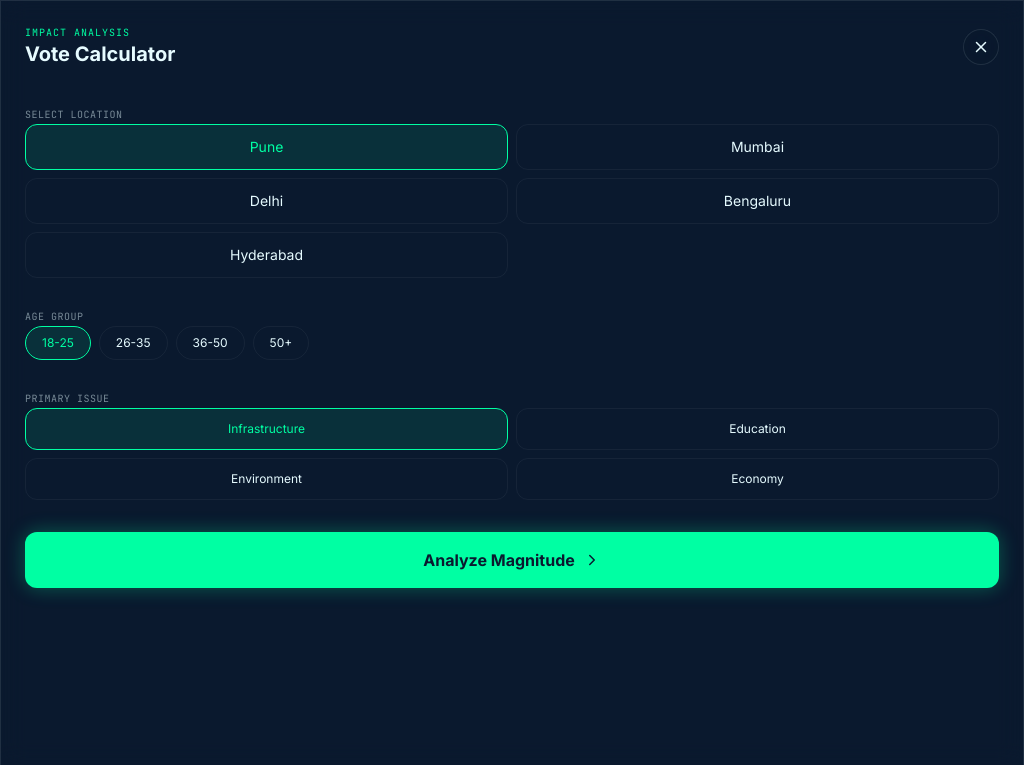
VoteImpactCalculator Component › navigates to step 2 after selection
The width and height of the screenshot is (1024, 765).
// Select a city
Click the button "Delhi" at (266, 201), box [25,178,508,224]
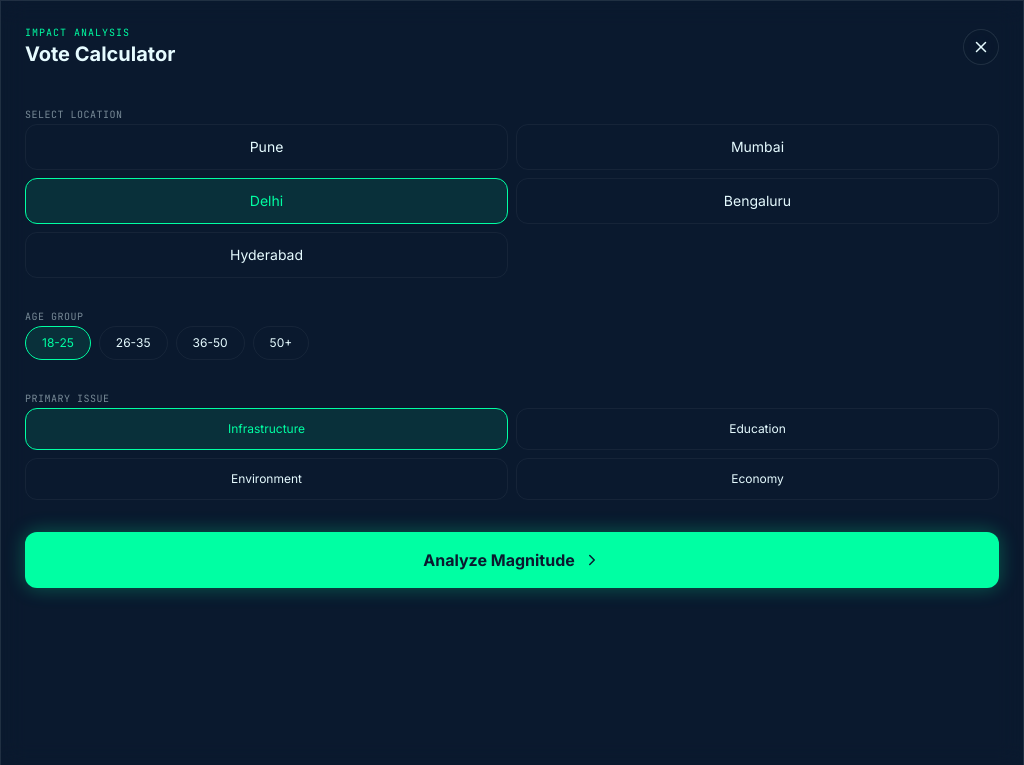
// Click Analyze button
Click the button "Analyze Magnitude" at (512, 560), box [25,532,999,588]
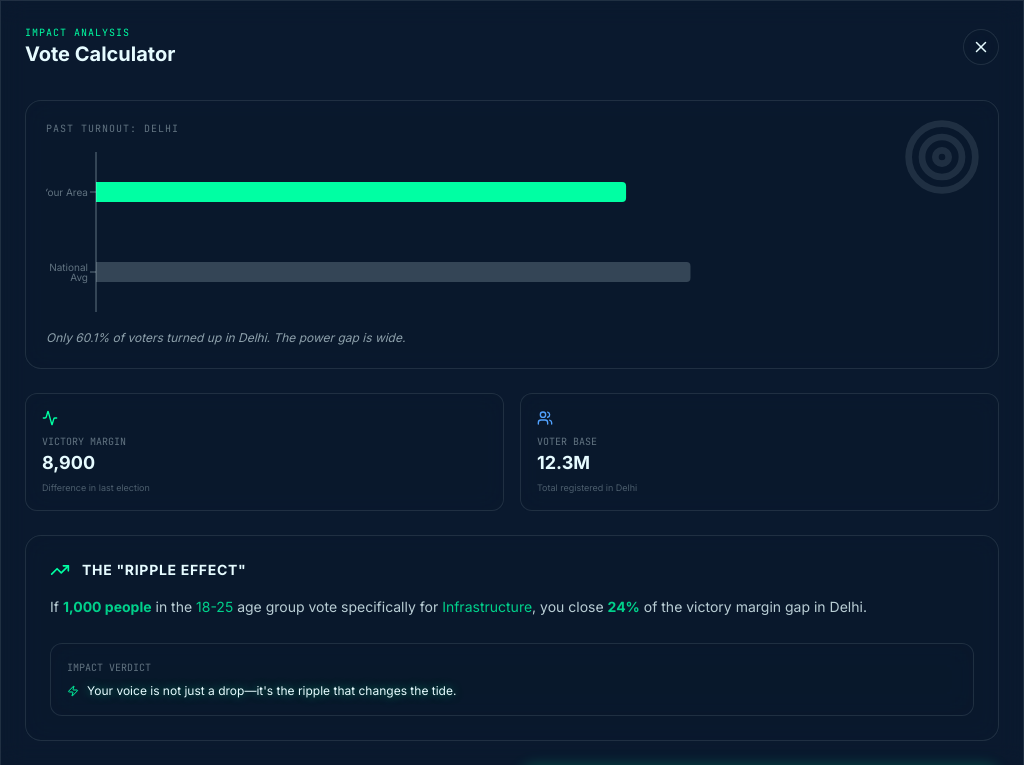
Expected: the text "Past Turnout: Delhi" is shown, [46,122,179,135]
Expected: the heading "The \"Ripple Effect\"" is shown, [82,560,246,580]
